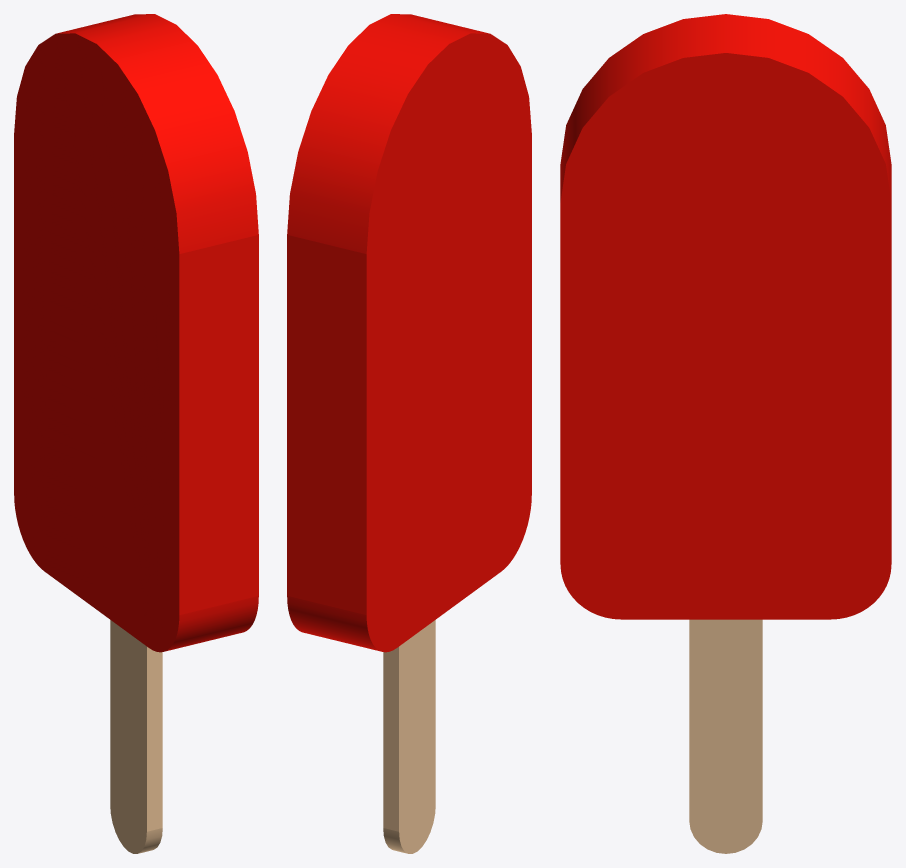
The model's file is popsicle_red.fbx.
The picture shows the model from 3 angles, left to right: view 1: azimuth 30°, elevation 25°; view 2: azimuth 150°, elevation 25°; view 3: azimuth 270°, elevation 25°; orthographic projection.
Visible parts, largest first — view 1: popsicle; view 2: popsicle; view 3: popsicle.
Part boxes in pixels (box(x1,y1,x2,y2)): popsicle: box(14, 14, 258, 853); popsicle: box(287, 14, 531, 853); popsicle: box(560, 14, 891, 853).
Bounding box in the file's own units: 5 × 49 × 18.
